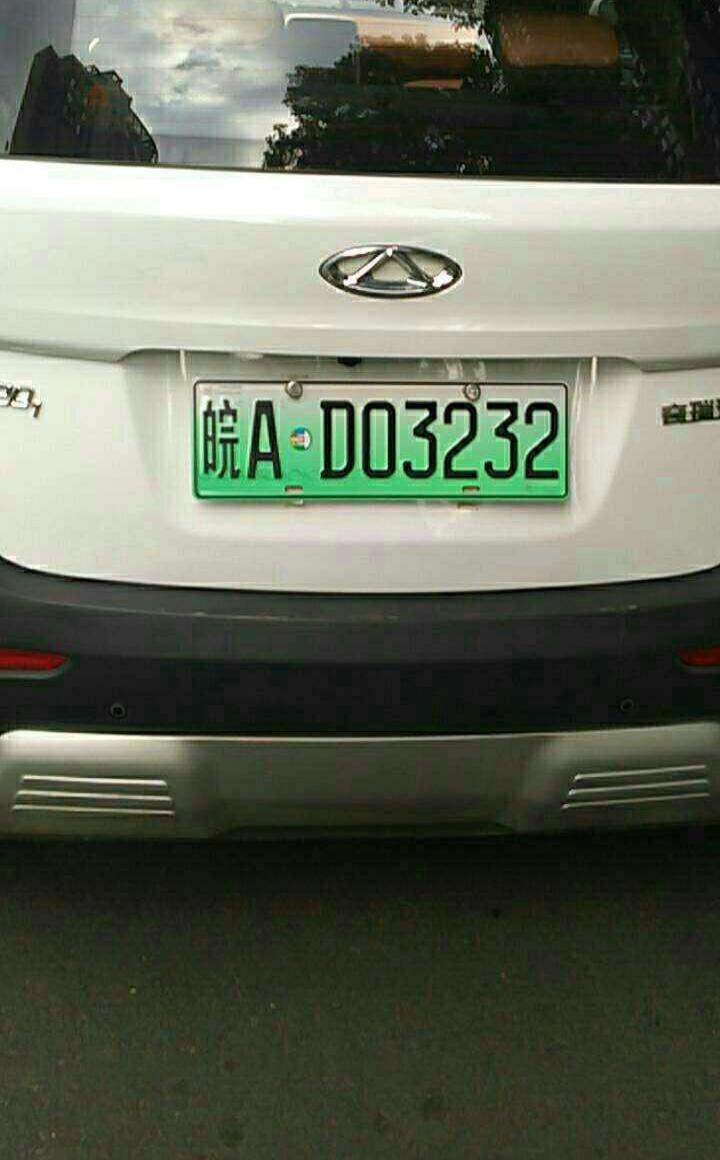car_id: (195, 378, 574, 502)
